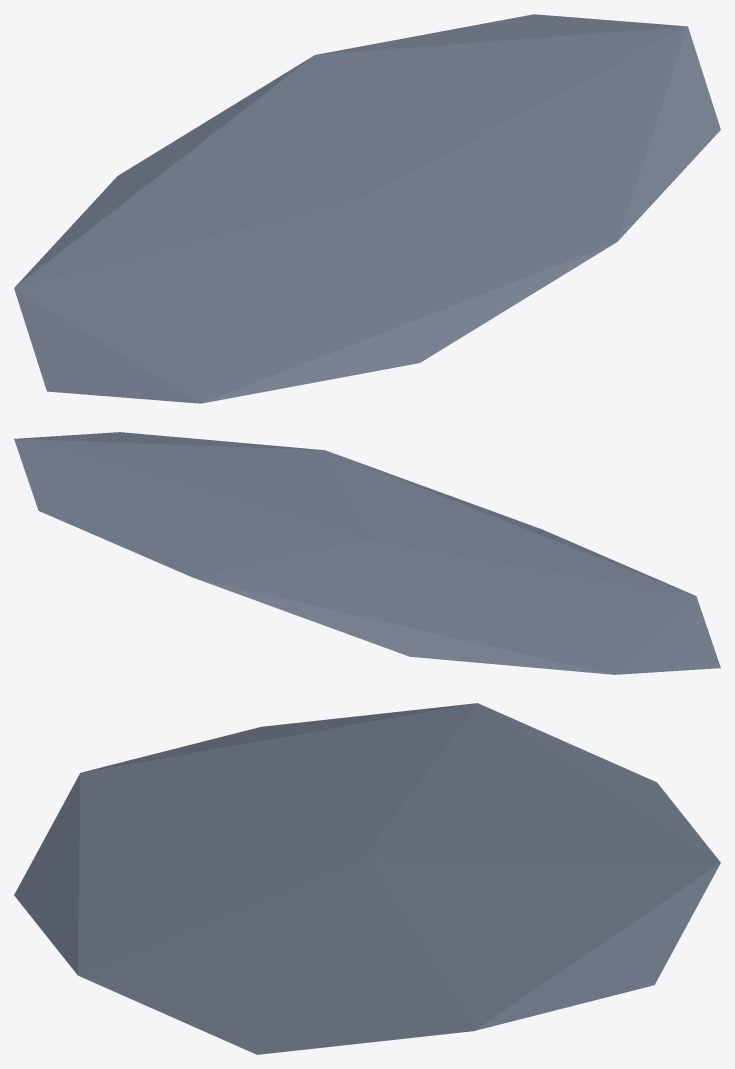
Rendered from EXTG_SouthRoad_06.glb.
3 views of the same model, one above another, from view 1: azimuth 30°, elevation 25°; view 2: azimuth 150°, elevation 25°; view 3: azimuth 270°, elevation 25° (orthographic). The views are drawn at different scales.
Visible parts, largest first — view 1: EXTG_SouthRoad_06; view 2: EXTG_SouthRoad_06; view 3: EXTG_SouthRoad_06.
Boxes of the visible parts, bbox=[...] form: EXTG_SouthRoad_06: bbox=[14, 14, 720, 403]; EXTG_SouthRoad_06: bbox=[14, 432, 720, 674]; EXTG_SouthRoad_06: bbox=[14, 703, 720, 1054].
Size of the model in its own units: 1.77 by 0.3214 by 1.06.
